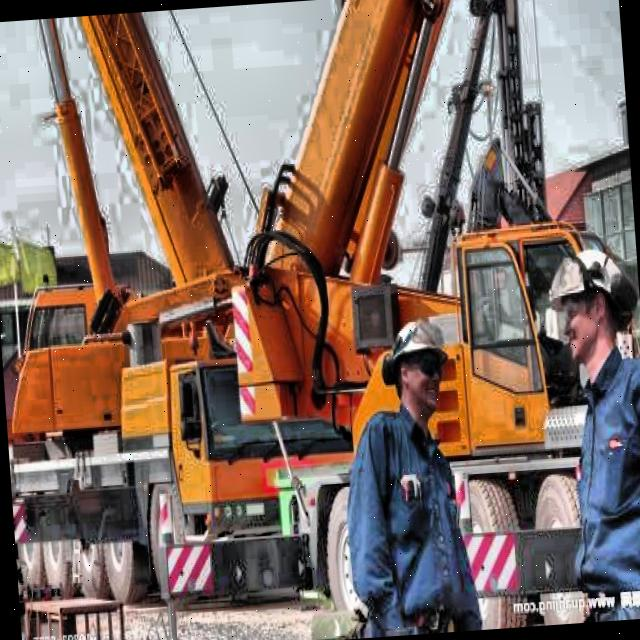helmet: (546, 243, 632, 367), (380, 316, 455, 422)
